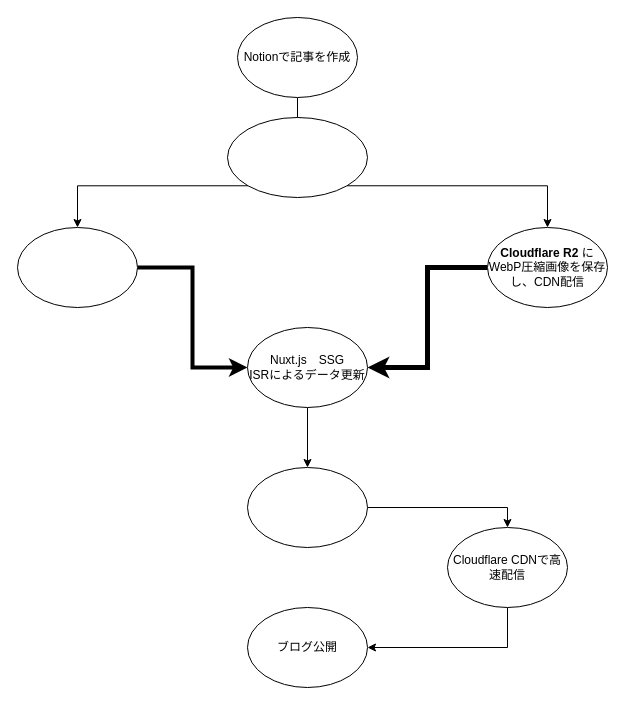
This 625x705 diagram has some shape labels left out. The centre of each missing label's shape, as x and y in pixels:
markdown形式で firestorに保存: point 77,267
notion API: point 297,157
Vercelへデプロイ: point 307,507
